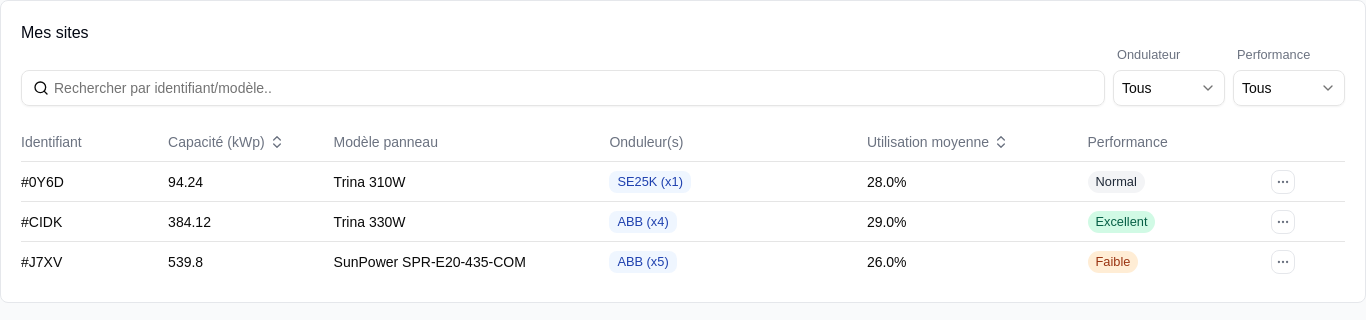
Test: SitesBlock › filters sites by inverter type
Click the dropdown named "ondulateur" at point(1169, 88), box [1113,70,1225,106]
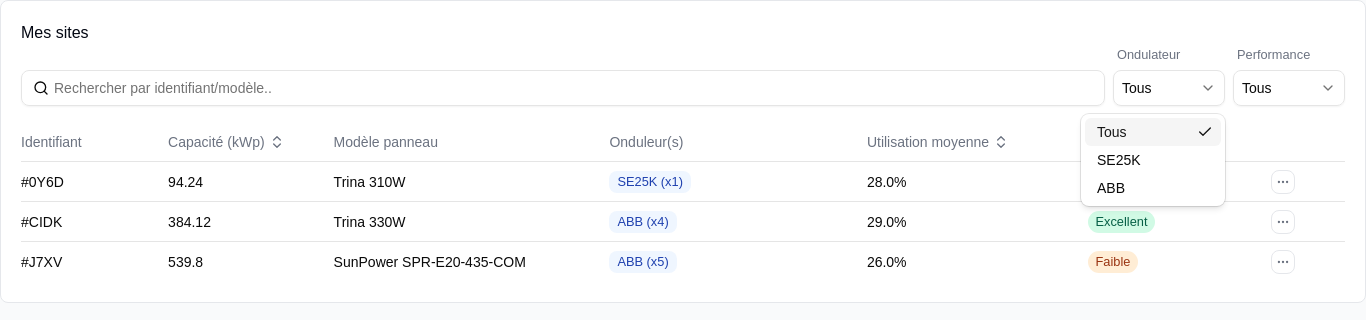
Click the option "SE25K" at point(1119, 160), box [1097,152,1141,168]
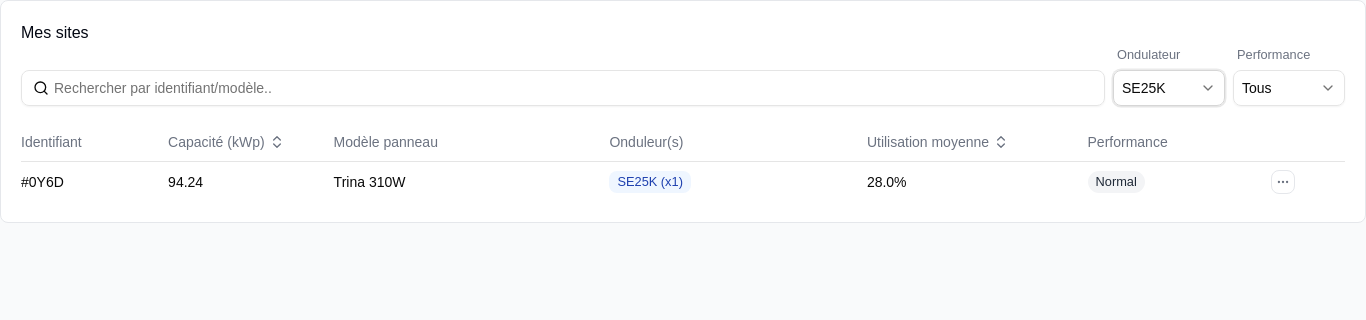
Expected: the text "#0Y6D" is shown, [21,162,168,202]
Expected: the text "#CIDK" is gone
